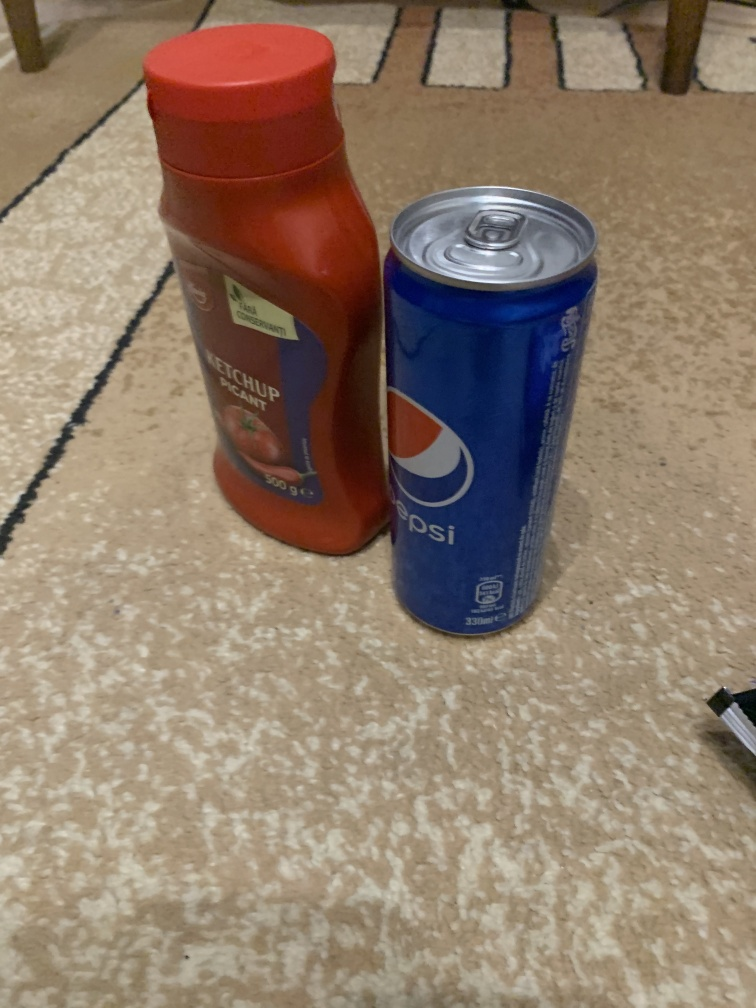ketchup: (138, 21, 384, 597)
pepsi: (382, 155, 602, 642)
